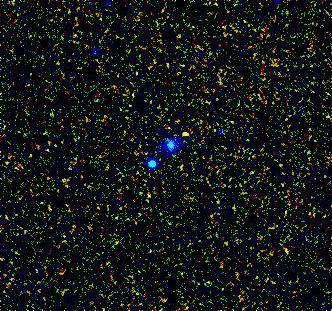star: (173, 120, 203, 150)
